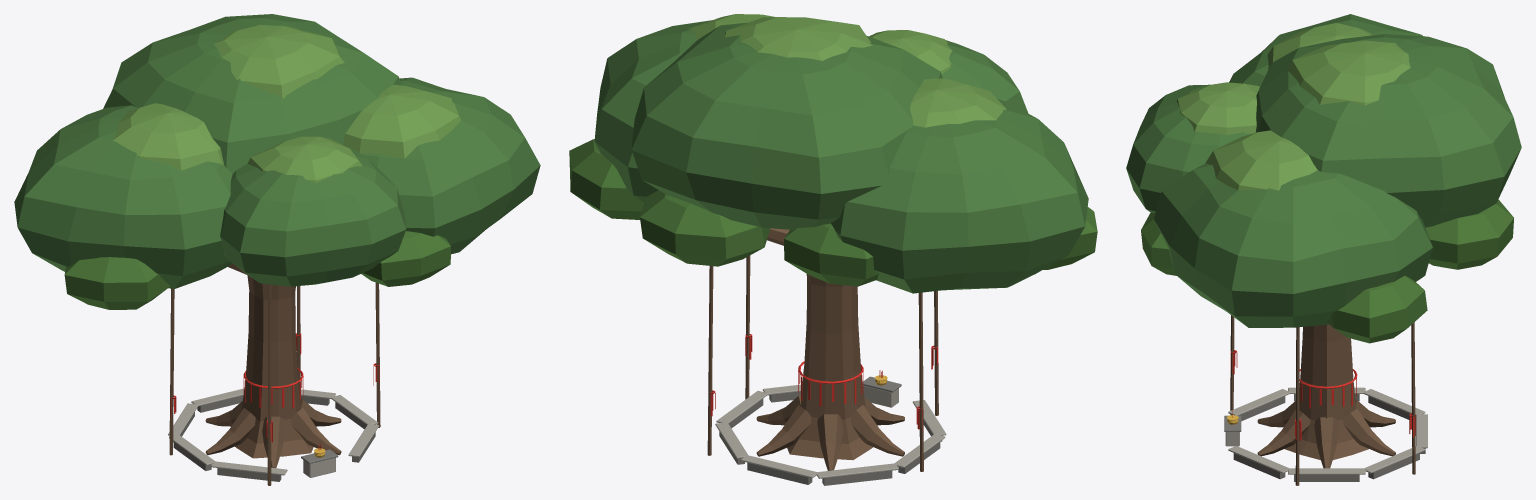
File: great_tree.glb
3 views of the same model, side by side, from view 1: azimuth 30°, elevation 25°; view 2: azimuth 150°, elevation 25°; view 3: azimuth 270°, elevation 25° (orthographic). The views are drawn at different scales.
Parts seen in each view (by area): view 1: great_tree; view 2: great_tree; view 3: great_tree.
Part boxes in pixels (x1,y1,x2,y2): great_tree: [14, 14, 540, 485]; great_tree: [569, 14, 1097, 485]; great_tree: [1126, 14, 1521, 485].
Bounding box in the file's own units: 23.31 × 18.2 × 16.62.
